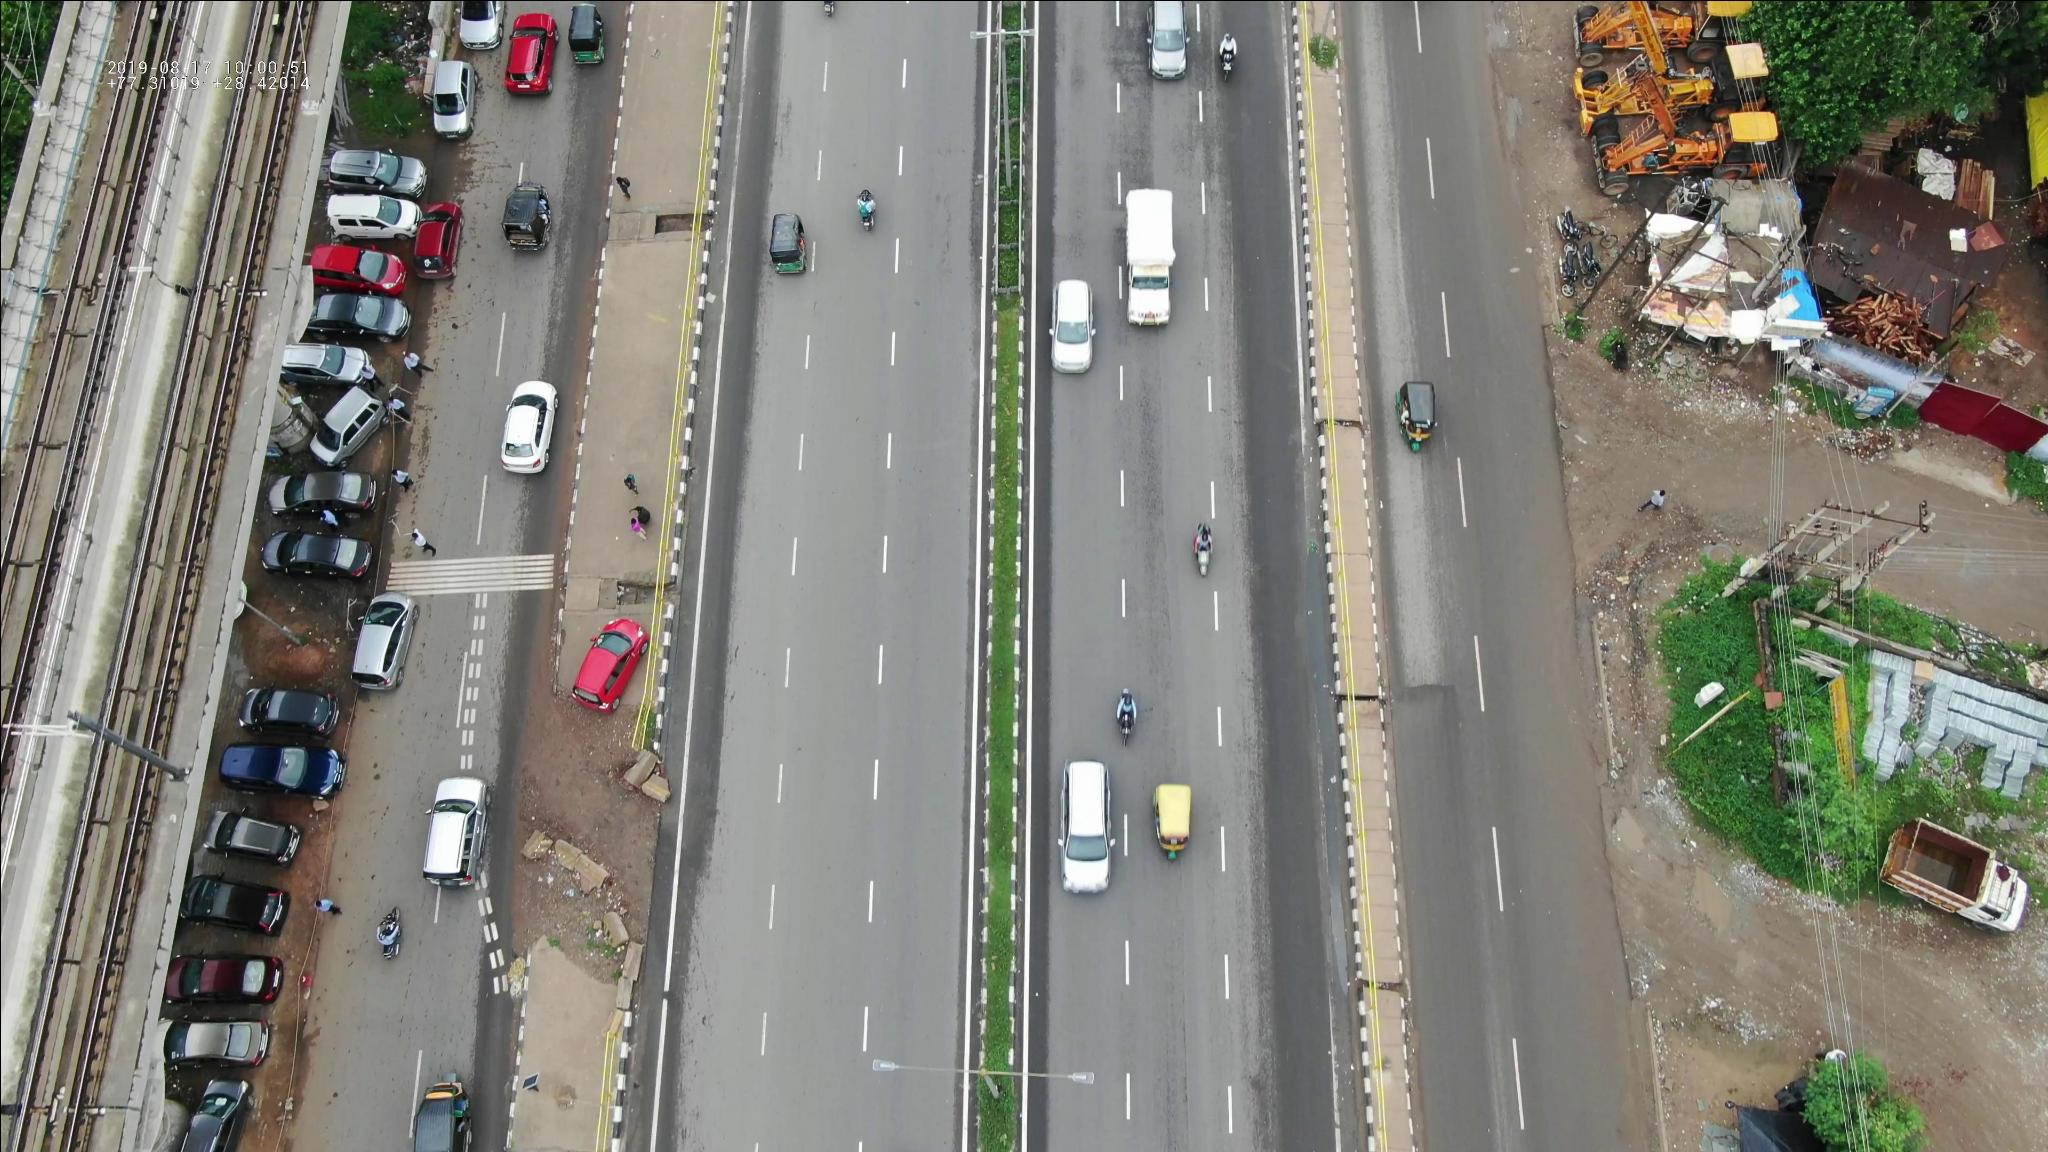Muddy_road: (1484, 30, 1537, 212)
